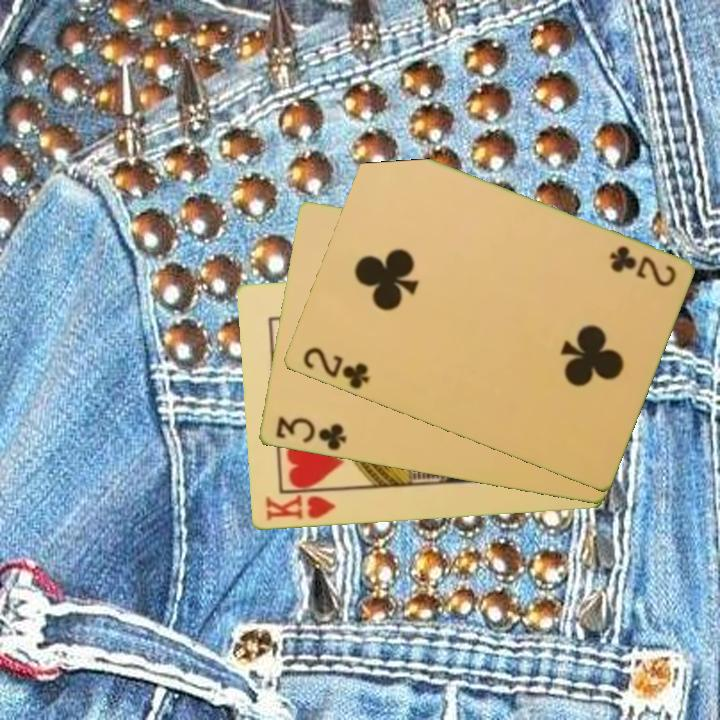2c: (299, 343, 372, 393), (605, 242, 679, 290)
3c: (271, 413, 349, 454)
Kh: (261, 487, 343, 524)
